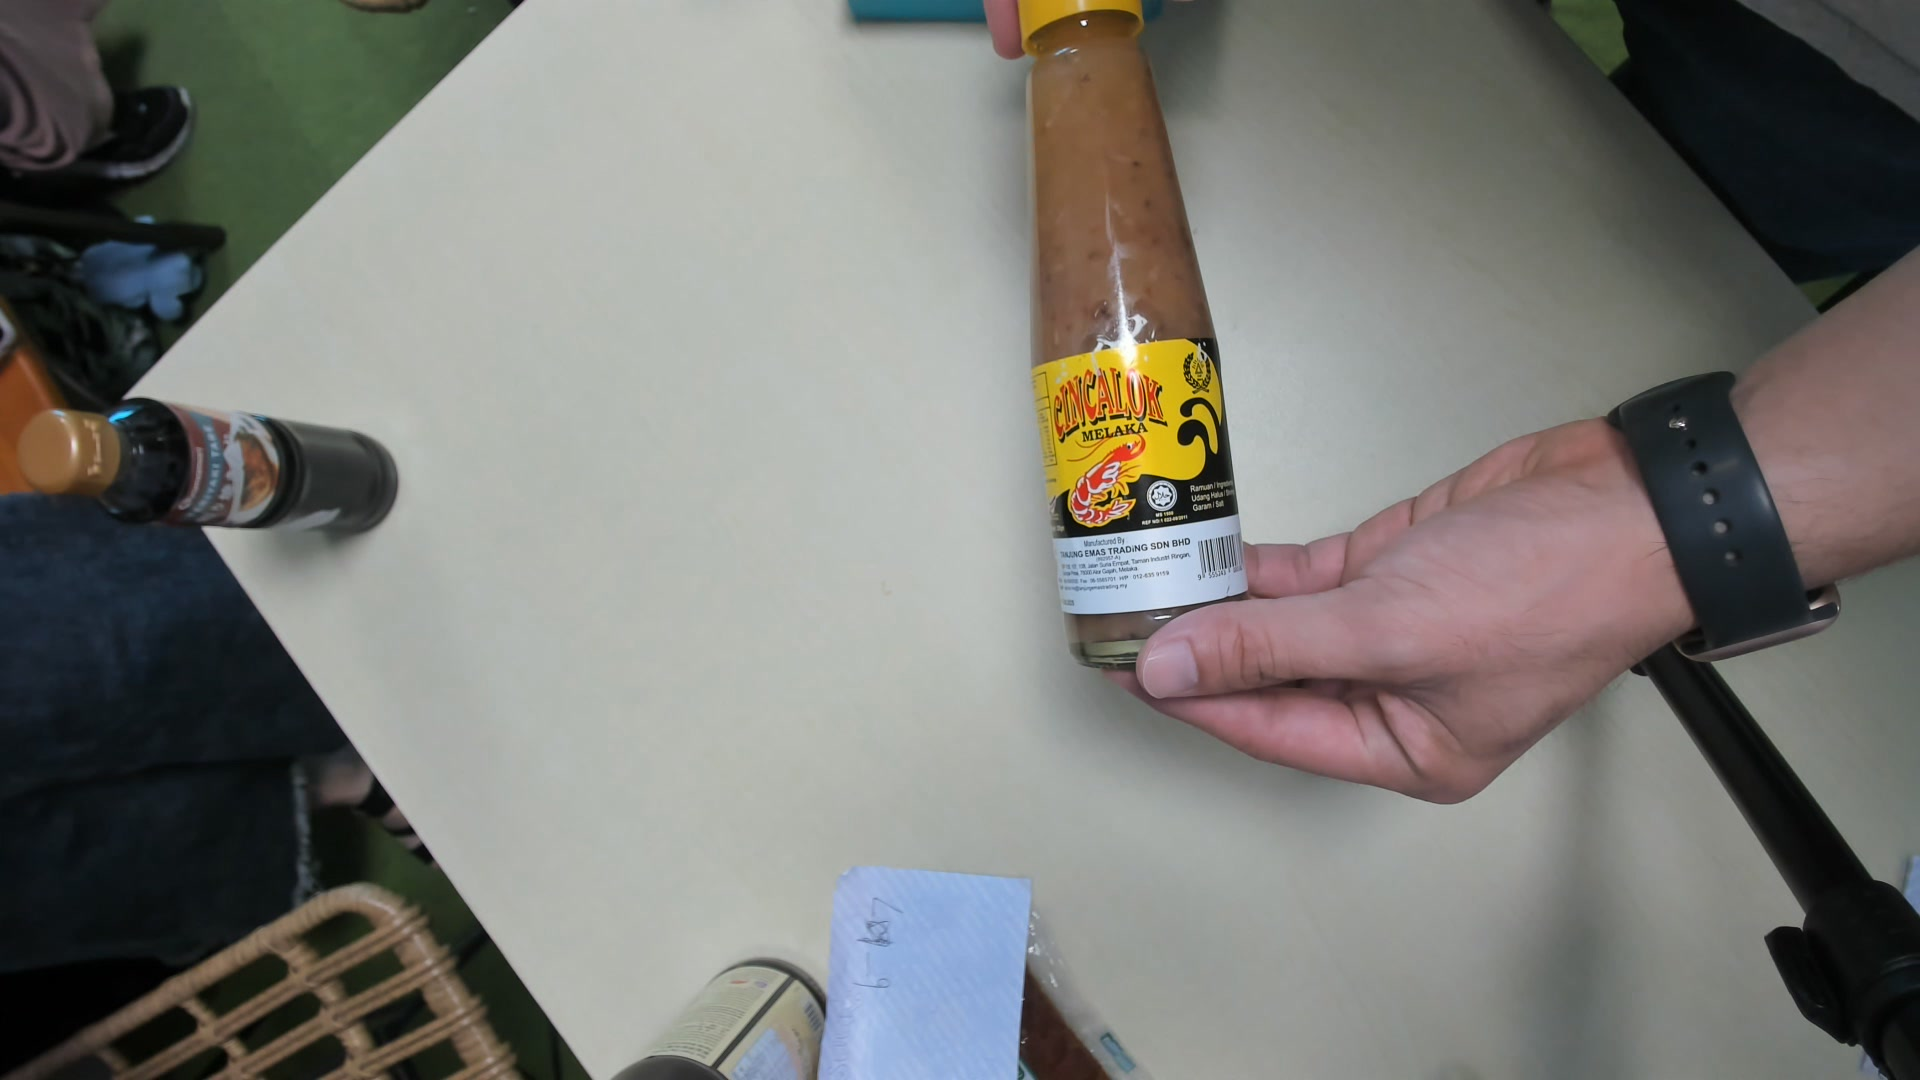OtherSauceDressingSoupbasePaste_200-299g_Halal_NonHealthy: (1019, 5, 1250, 666)
